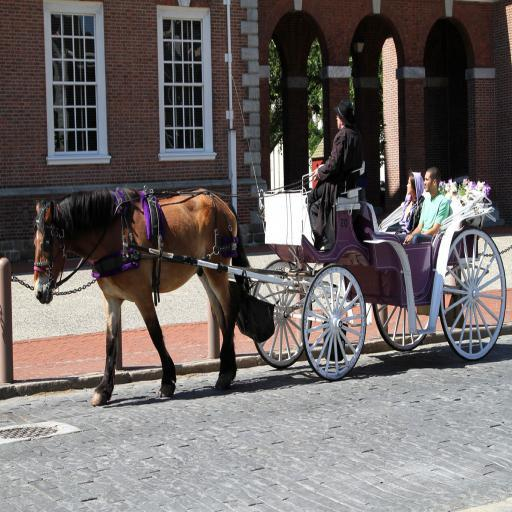Horse: (33, 187, 253, 405)
